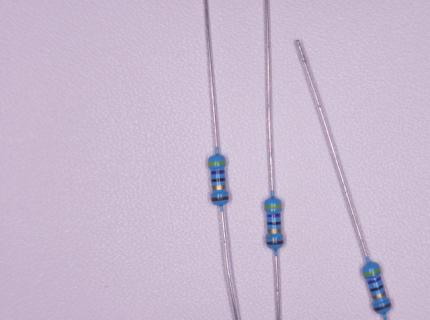Black band: (369, 284, 384, 292), (211, 178, 226, 182), (267, 222, 281, 225)
Brown band: (373, 302, 392, 312), (211, 196, 229, 202), (266, 241, 284, 245)
Gold band: (372, 291, 386, 300), (212, 185, 227, 191), (267, 228, 281, 234)
Violet band: (367, 276, 382, 285), (210, 170, 225, 175), (266, 213, 281, 217)
Yellow band: (362, 268, 381, 276), (264, 204, 282, 209), (208, 161, 226, 166)
